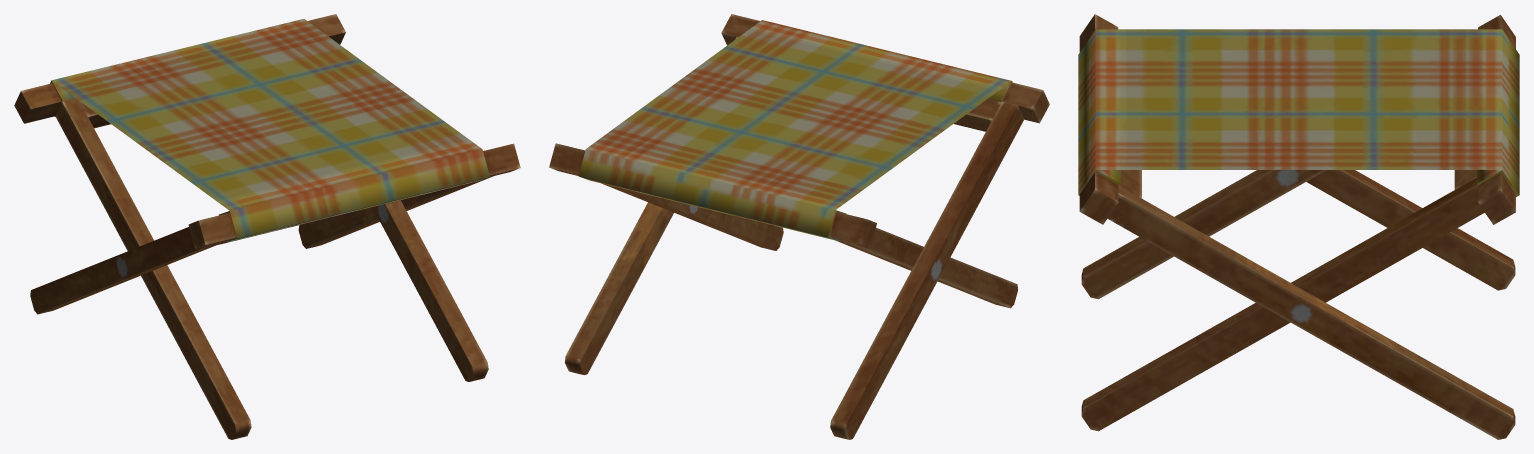
File: pi_chair01_dlc1_03_01.gltf
3 views of the same model, side by side, from view 1: azimuth 30°, elevation 25°; view 2: azimuth 150°, elevation 25°; view 3: azimuth 270°, elevation 25° (orthographic). The views are drawn at different scales.
Parts seen in each view (by area): view 1: pi_chair01_dlc1_03_01_mesh_shape:pi_chair01_dlc1_06_main; view 2: pi_chair01_dlc1_03_01_mesh_shape:pi_chair01_dlc1_06_main; view 3: pi_chair01_dlc1_03_01_mesh_shape:pi_chair01_dlc1_06_main.
Part boxes in pixels (x1,y1,x2,y2): pi_chair01_dlc1_03_01_mesh_shape:pi_chair01_dlc1_06_main: (14,14,520,439); pi_chair01_dlc1_03_01_mesh_shape:pi_chair01_dlc1_06_main: (549,14,1049,439); pi_chair01_dlc1_03_01_mesh_shape:pi_chair01_dlc1_06_main: (1078,14,1519,439).
Size of what is drawn, in the model's own units: 0.4989 by 0.3463 by 0.53.
Materials: 1 (1 with a texture image).
